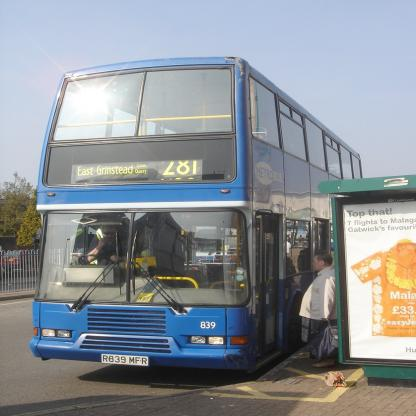Bus: (29, 55, 364, 381)
